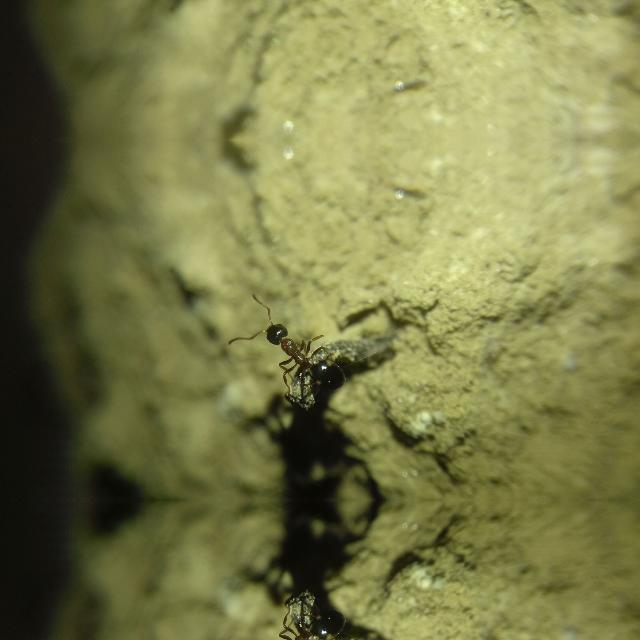Dolichoderus: (230, 305, 374, 399), (230, 600, 374, 640)
